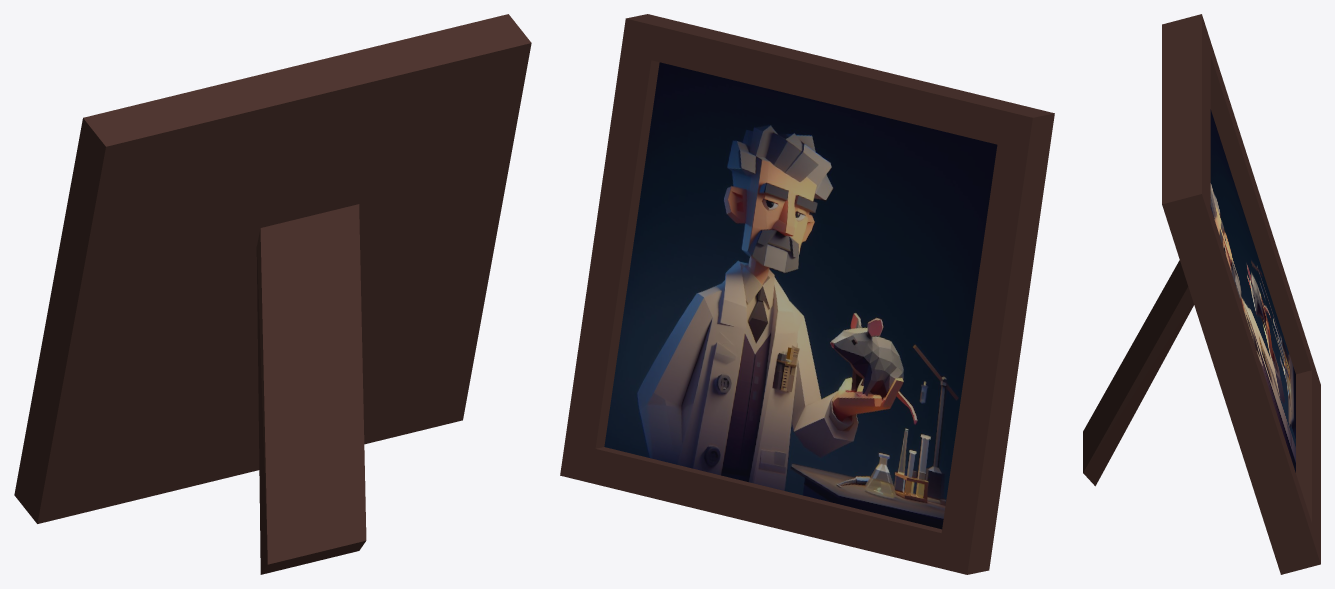
The model's file is scientist picture frame.fbx.
The picture shows the model from 3 angles, left to right: view 1: azimuth 30°, elevation 25°; view 2: azimuth 150°, elevation 25°; view 3: azimuth 270°, elevation 25°; orthographic projection. The views are drawn at different scales.
Visible parts, largest first — view 1: Cube; view 2: Cube; view 3: Cube.
Boxes of the visible parts, x1,y1,x2,y2 form: Cube: (14,14,531,574); Cube: (560,14,1054,574); Cube: (1083,14,1320,574).
Size of the model in its own units: 40 by 39.56 by 22.34.
